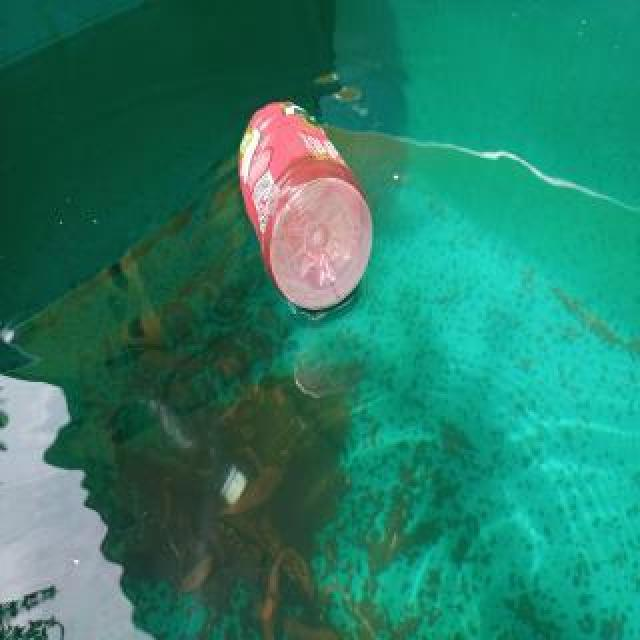bottle: (237, 95, 375, 317)
